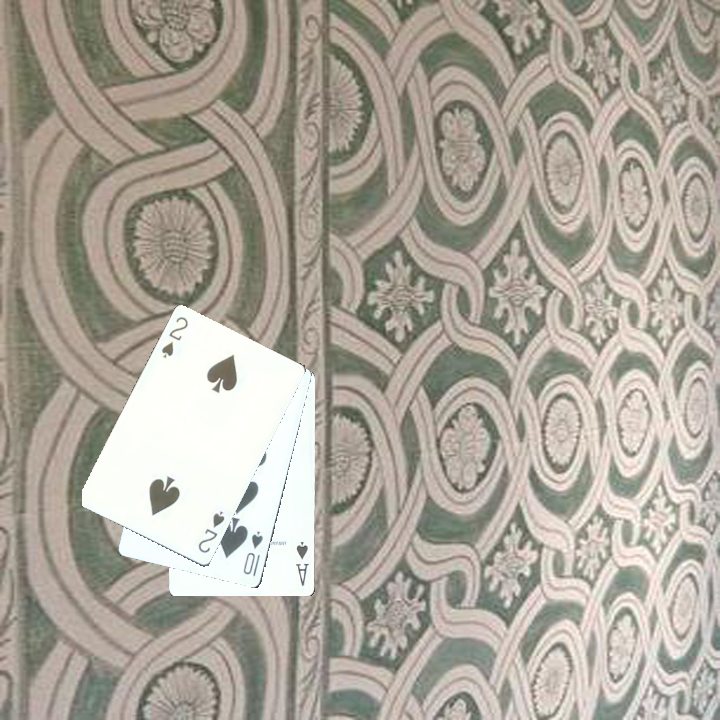10s: (239, 527, 265, 577)
2s: (157, 312, 191, 361), (194, 507, 227, 556)
As: (292, 538, 311, 588)
